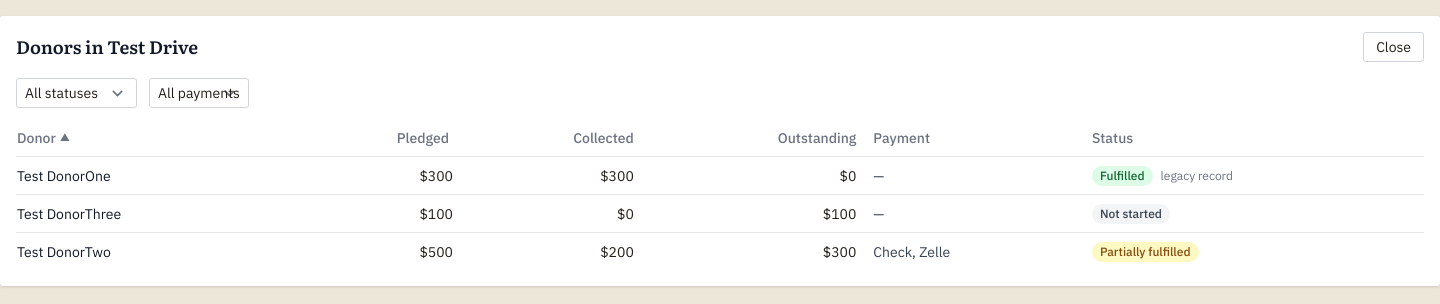
Test case: filtering › applies both filters together
The width and height of the screenshot is (1440, 304).
Expected: the text "Test DonorOne" is shown, [16, 156, 298, 194]
Select "Zelle" in the dropdown named "payment": (199, 93) [149, 78, 249, 108]
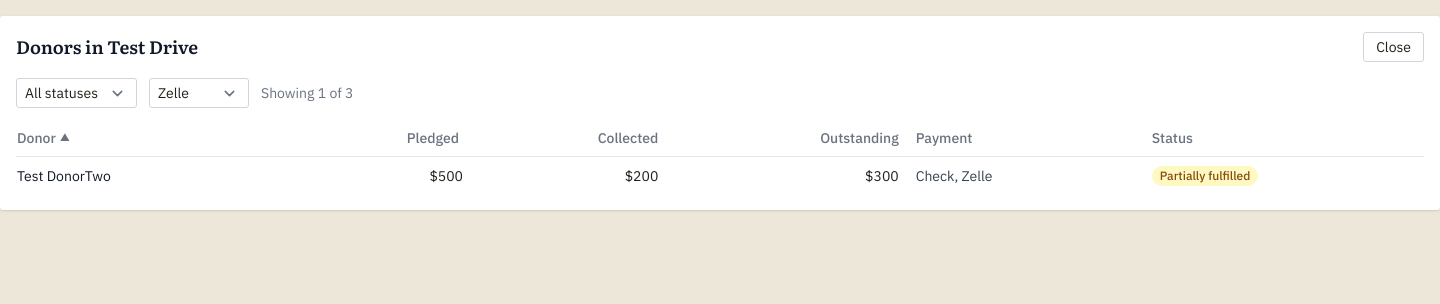
Select "Fulfilled" in the dropdown named "status": (76, 93) [16, 78, 137, 108]
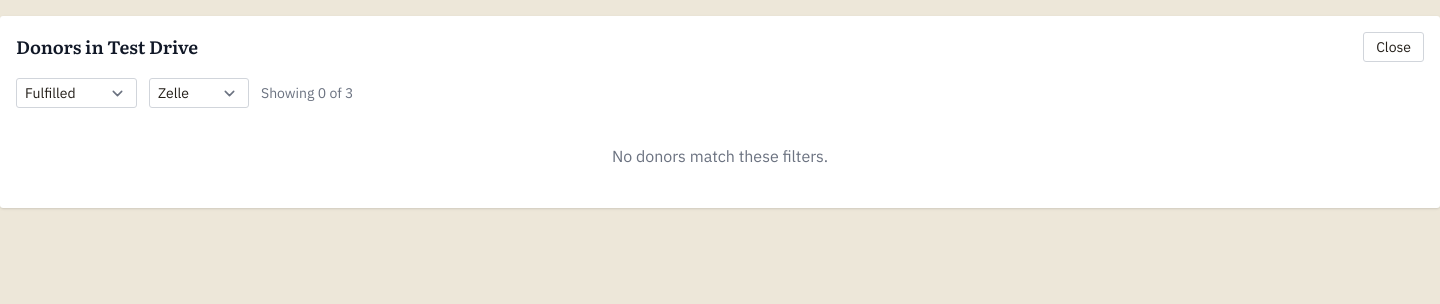
Expected: the text "No donors match these filters." is shown, [612, 146, 828, 166]
